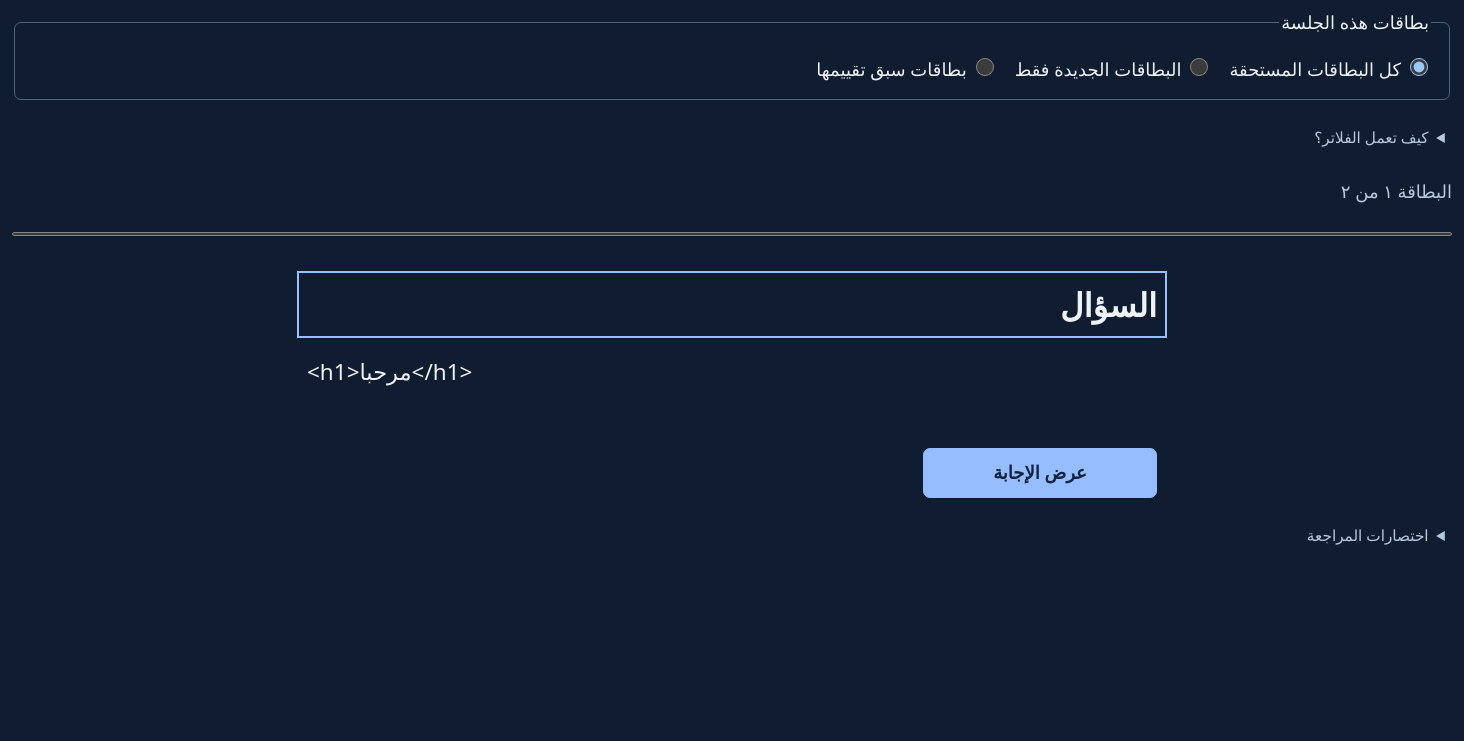
Test: suppresses duplicate ratings and retries the same durable action token after an error
Click the button "عرض الإجابة" at (1040, 473), box [923, 448, 1157, 498]
(page scrolled)
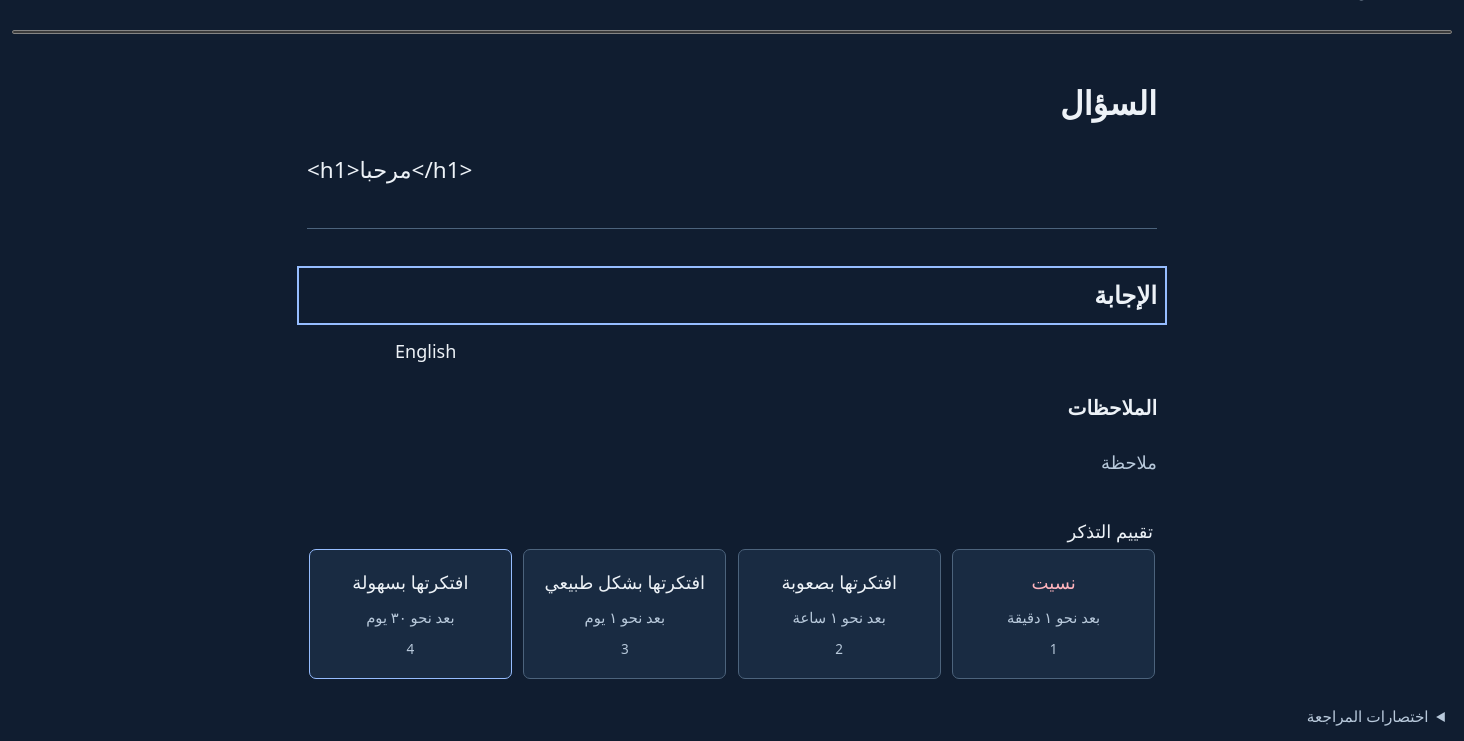
Double-click the button "افتكرتها بسهولة بعد نحو ٣٠ يوم 4" at (410, 614), box [309, 549, 512, 679]
(page scrolled)
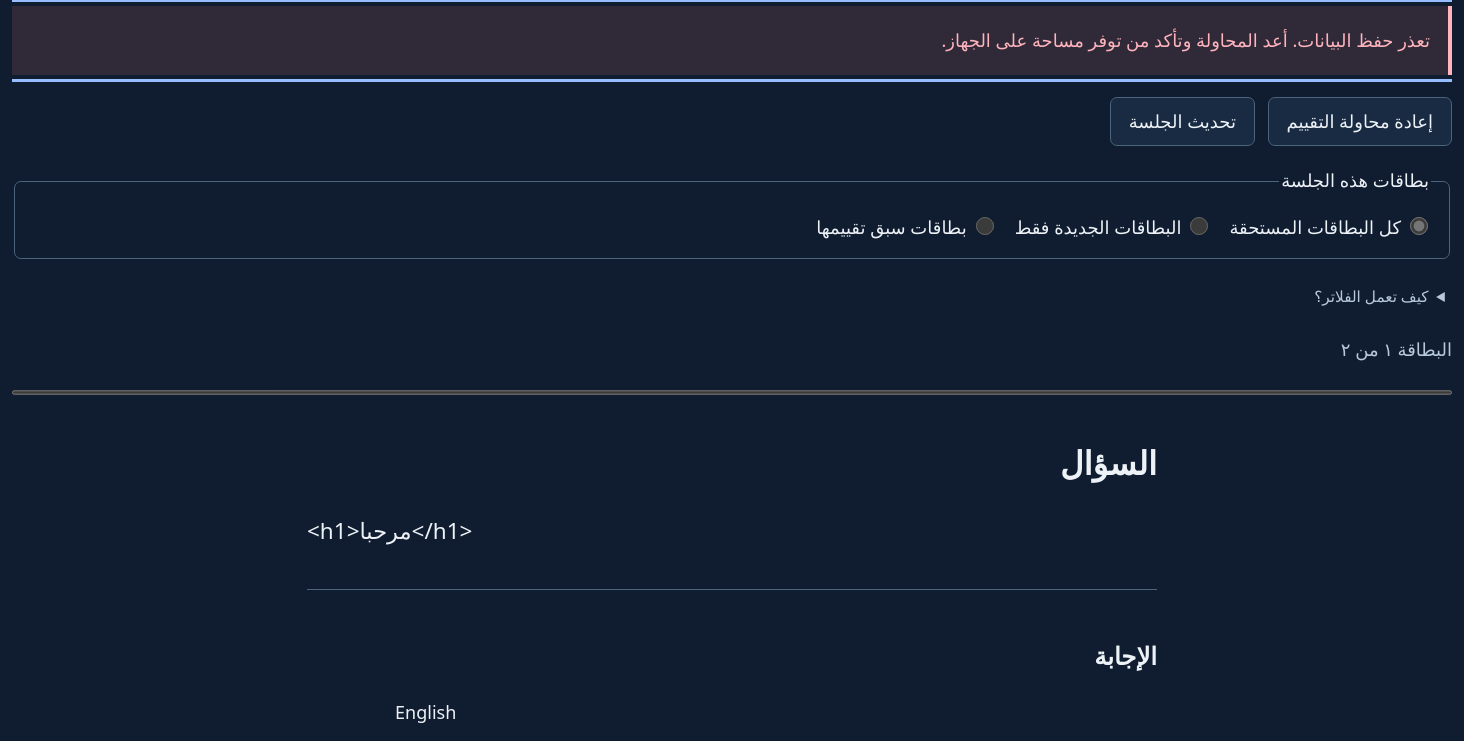
Expected: the message "تعذر حفظ البيانات. أعد المحاولة وتأكد من توفر مساحة على الجهاز." is shown, [12, 6, 1452, 75]
Click the button "إعادة محاولة التقييم" at (1360, 122), box [1268, 97, 1452, 146]
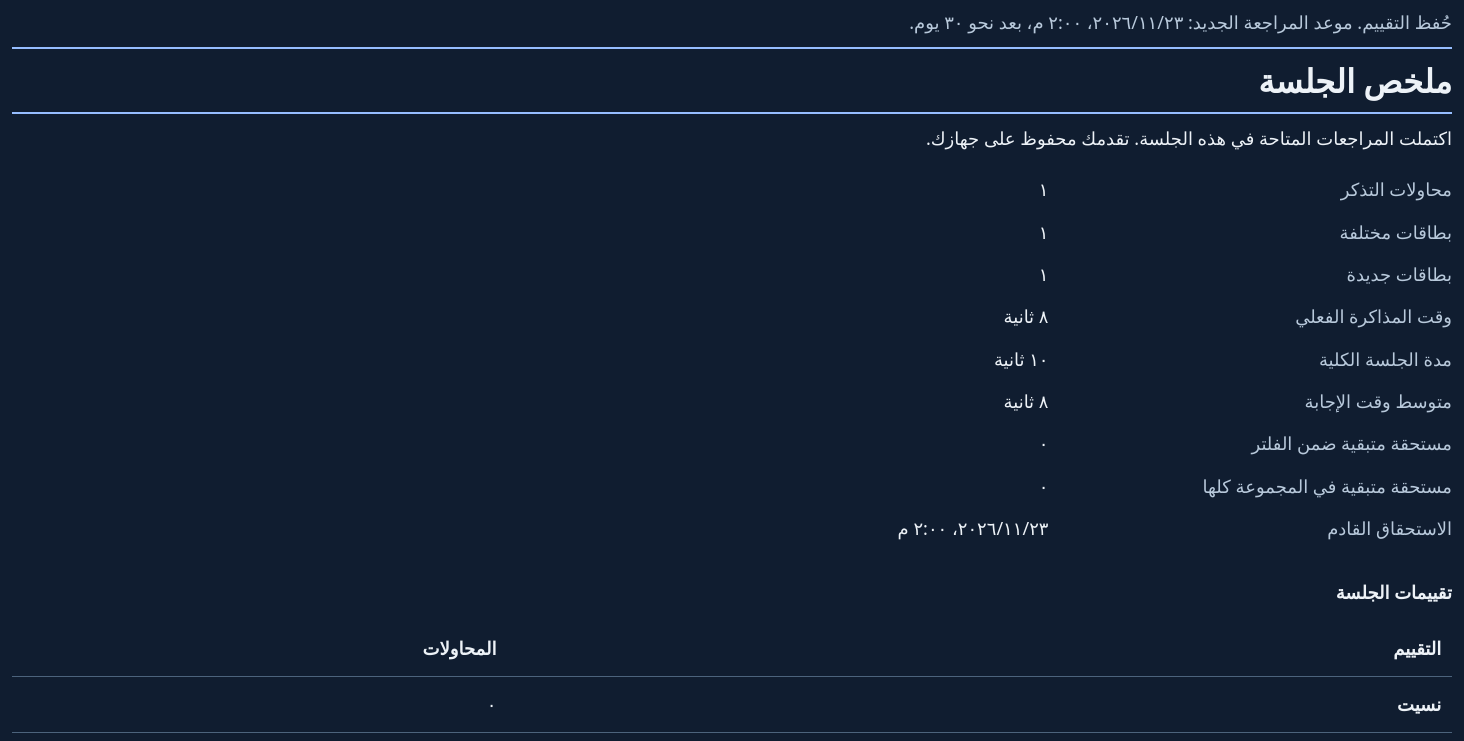
Expected: the heading "ملخص الجلسة" is shown, [1258, 58, 1452, 102]
